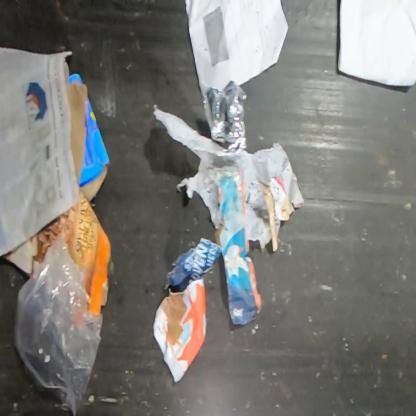cardboard: (1, 186, 112, 316), (65, 72, 110, 204)
metal: (202, 79, 247, 151)
soft_plastic: (153, 105, 304, 252), (11, 233, 105, 415)
